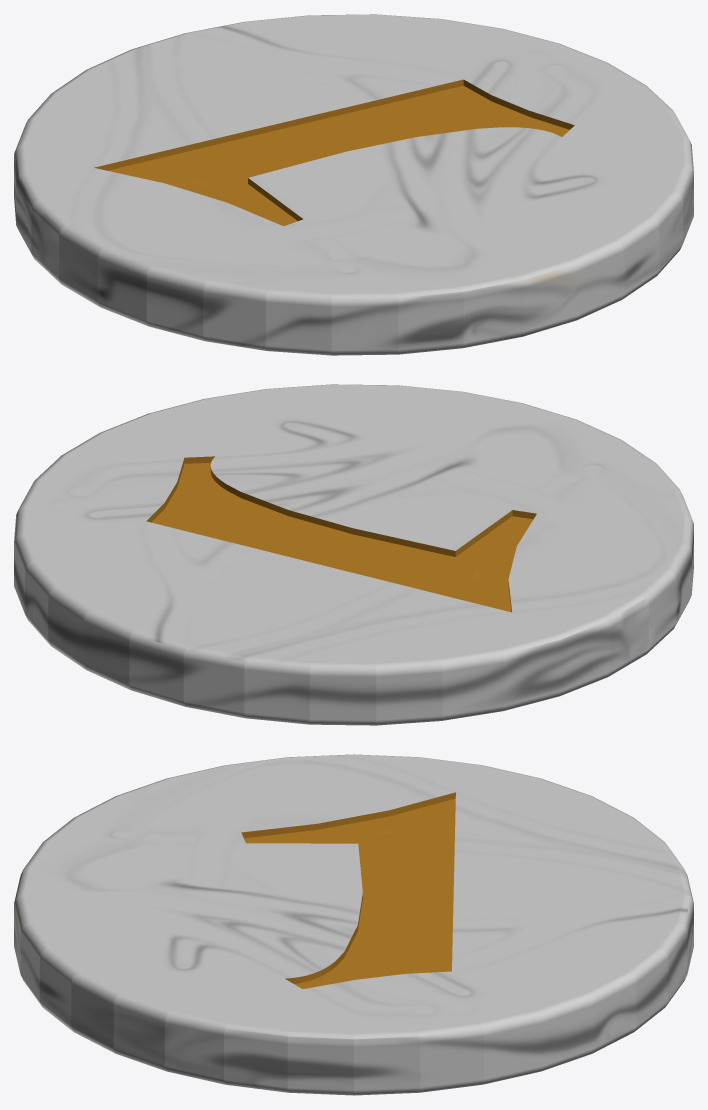
The model's file is D2-Marble.glb.
3 views of the same model, one above another, from view 1: azimuth 30°, elevation 25°; view 2: azimuth 150°, elevation 25°; view 3: azimuth 270°, elevation 25° (orthographic).
Parts seen in each view (by area): view 1: D2.marble-convcol; view 2: D2.marble-convcol; view 3: D2.marble-convcol.
Part boxes in pixels (<box>): D2.marble-convcol: <box>14,14,693,355</box>; D2.marble-convcol: <box>14,384,693,725</box>; D2.marble-convcol: <box>14,754,693,1095</box>.
Bounding box in the file's own units: 2 × 0.2 × 2.
Materials: 1 (1 with a texture image).
